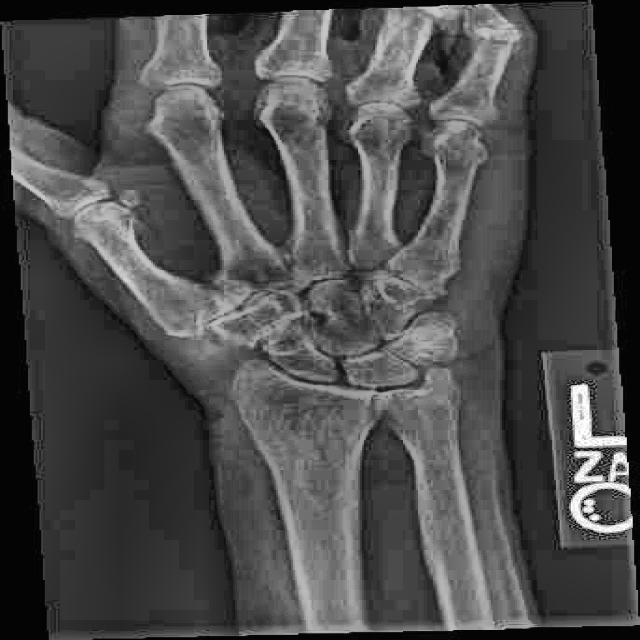wrist positive: (210, 377, 395, 442)
